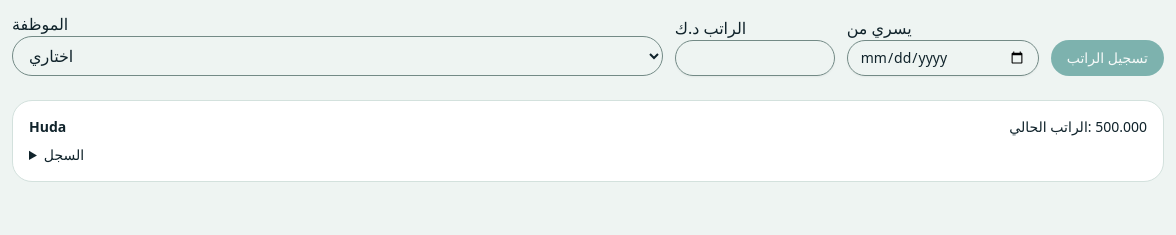
Test: records an effective-dated salary
Select "Huda" in the dropdown labelled "الموظفة" at (337, 56), box x1=12 y1=36 x2=663 y2=76
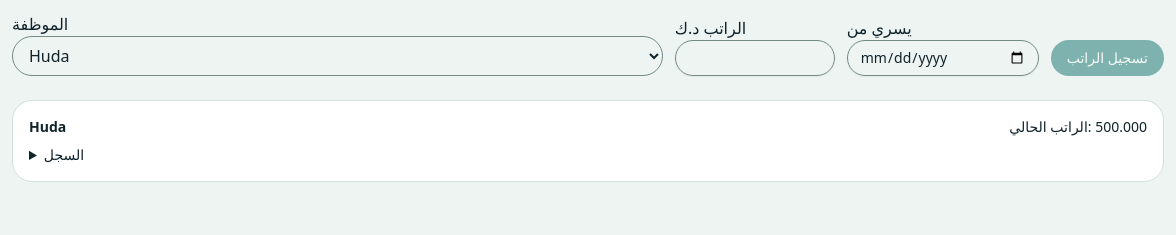
Type "525.000" into the field labelled "الراتب د.ك" at (755, 58), box x1=675 y1=40 x2=835 y2=76
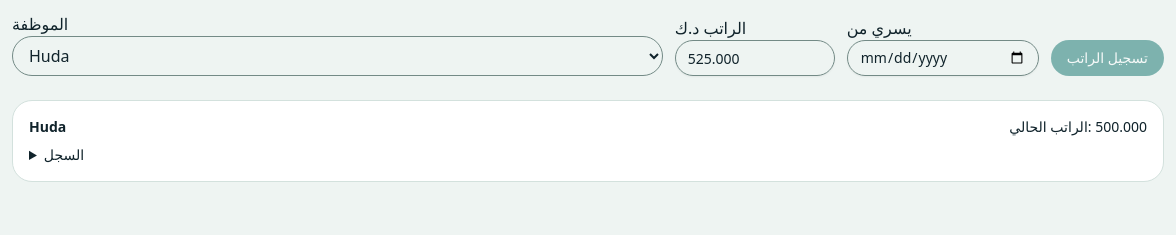
Type "2027-03-01" into the date field labelled "يسري من" at (943, 58), box x1=847 y1=40 x2=1039 y2=76
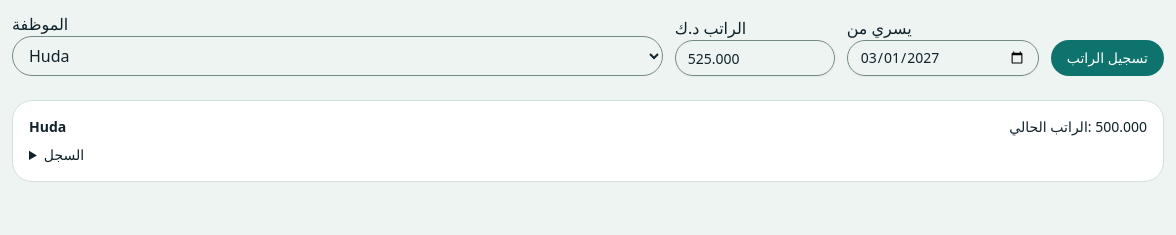
Click the button "تسجيل الراتب" at (1107, 58), box x1=1051 y1=40 x2=1164 y2=76
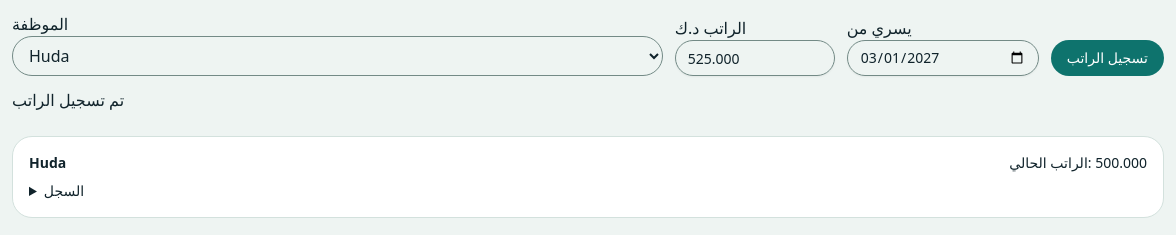
Result: the text "تم تسجيل الراتب" is shown at x1=12 y1=89 x2=124 y2=111
